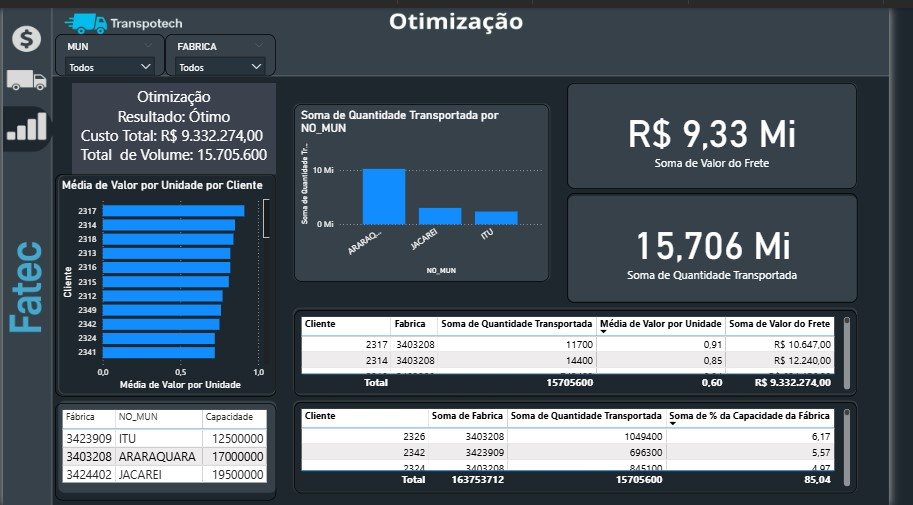

What the dashboard file says about the page in this screenshot:
{"tool":"powerbi","page":{"name":"OTIMIZAÇÃO","canvas":[1280,720],"ordinal":2},"visuals":[{"type":"tableEx","fields":{"Values":["resumo_fabrica (2).Fábrica","Fabricas.NO_MUN","resumo_fabrica (2).Capacidade"]},"box":[74.5,570.6,320,140.5],"z":0},{"type":"clusteredBarChart","fields":{"Category":["Transporte_Correto.Cliente"],"Y":["Avg(Transporte_Correto.Valor por Unidade)"]},"box":[74.9,240.2,320,321.9],"z":1000},{"type":"slicer","fields":{"Values":["Fabricas.NO_MUN"]},"box":[234,37,160,61],"z":2000},{"type":"card","fields":{"Values":["Sum(Transporte_Correto.Valor do Frete)"]},"box":[816,108,419,153],"z":3000},{"type":"clusteredColumnChart","fields":{"Category":["Fabricas.NO_MUN"],"Y":["Sum(Transporte_Correto.Quantidade Transportada)"]},"box":[421,139,369,257],"z":4000},{"type":"tableEx","fields":{"Values":["Transporte_Correto.Cliente","Transporte_Correto.Fabrica","Sum(Transporte_Correto.Quantidade Transportada)","Avg(Transporte_Correto.Valor por Unidade)","Sum(Transporte_Correto.Valor do Frete)"]},"box":[421,437,814,125],"z":5000},{"type":"card","fields":{"Values":["Sum(Transporte_Correto.Quantidade Transportada)"]},"box":[816.1,267.5,419.9,159.2],"z":6000},{"type":"slicer","fields":{"Values":["CLIENTES_COM_ENDEREÇOS_COMPLETO.MUN"]},"box":[75,37,159,61],"z":7000},{"type":"tableEx","fields":{"Values":["capacidade_utilizada_por_cliente.Cliente","Sum(capacidade_utilizada_por_cliente.Fabrica)","Sum(capacidade_utilizada_por_cliente.Quantidade Transportada)","Sum(capacidade_utilizada_por_cliente.% da Capacidade da Fábrica)"]},"box":[421,570,814,132],"z":8000},{"type":"actionButton","box":[0,152,74,64],"z":9000},{"type":"actionButton","box":[0,15,74,53],"z":10000},{"type":"actionButton","box":[0,74,67,67],"z":11000},{"type":"textbox","box":[99.9,108.4,294.6,132.1],"z":11001}]}

Visuals, with their boxes on the page's 1280x720 design canvas (x1, y1, x2, y2). These are canvas units, not pixel positions in the 913x505 screenshot, which may show the page scaled, cropped or inside an application window:
tableEx - resumo_fabrica (2).Fábrica x Fabricas.NO_MUN: 74, 571, 394, 711
clusteredBarChart - Transporte_Correto.Cliente x Avg(Transporte_Correto.Valor por Unidade): 75, 240, 395, 562
slicer - Fabricas.NO_MUN: 234, 37, 394, 98
card - Sum(Transporte_Correto.Valor do Frete): 816, 108, 1235, 261
clusteredColumnChart - Fabricas.NO_MUN x Sum(Transporte_Correto.Quantidade Transportada): 421, 139, 790, 396
tableEx - Transporte_Correto.Cliente x Transporte_Correto.Fabrica: 421, 437, 1235, 562
card - Sum(Transporte_Correto.Quantidade Transportada): 816, 268, 1236, 427
slicer - CLIENTES_COM_ENDEREÇOS_COMPLETO.MUN: 75, 37, 234, 98
tableEx - capacidade_utilizada_por_cliente.Cliente x Sum(capacidade_utilizada_por_cliente.Fabrica): 421, 570, 1235, 702
actionButton: 0, 152, 74, 216
actionButton: 0, 15, 74, 68
actionButton: 0, 74, 67, 141
textbox: 100, 108, 394, 240
